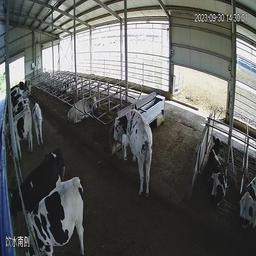cow: (104, 117, 159, 206), (23, 178, 87, 250), (17, 142, 71, 196), (203, 129, 231, 207), (65, 83, 99, 127), (240, 151, 255, 237), (9, 108, 32, 153), (31, 95, 47, 138)
